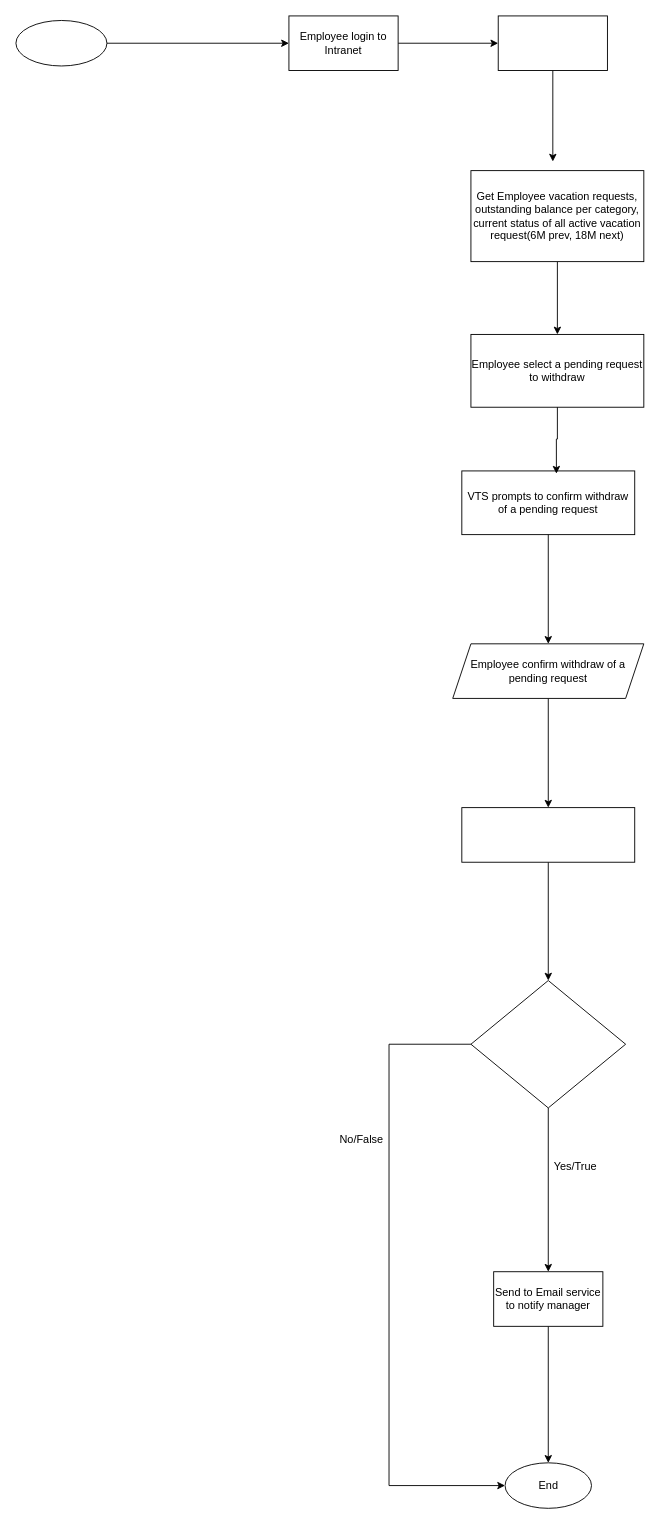
The diagram is 660 pixels wide and 1524 high, and some of its shapes have lost their labels. The shapes that lost their labels are listed below. From the top down, each one's centre as x and y in pixels, then its label:
At point (61, 43): "Start".
At point (552, 43): "Redirected to VTS".
At point (548, 834): "Update the status of request to withdraw".
At point (548, 1044): "Employee has manager".
